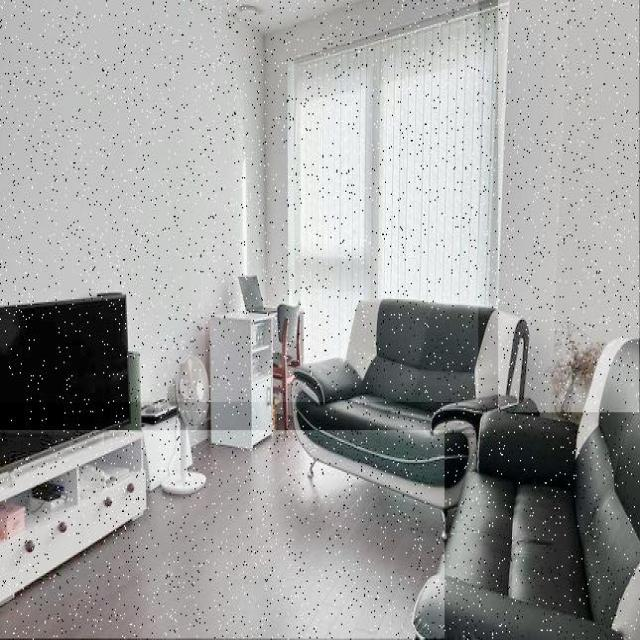Wall: (0, 0, 478, 402), (0, 431, 445, 639), (499, 0, 639, 412), (222, 0, 358, 33)
